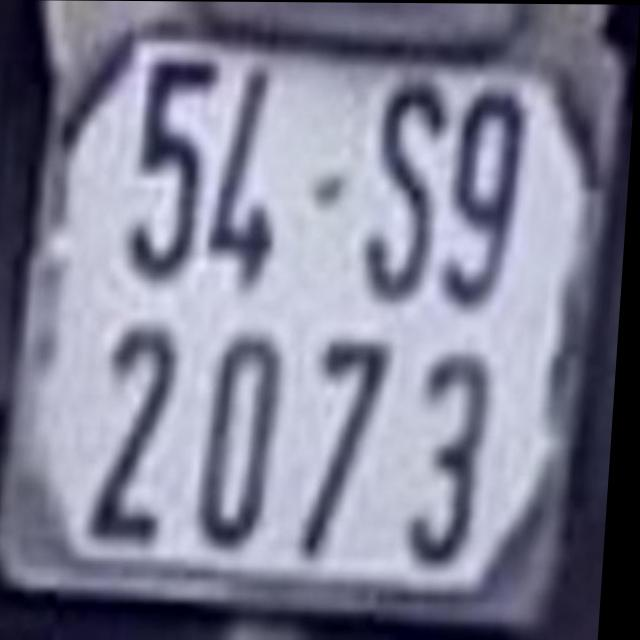0: (204, 323, 286, 546)
2: (89, 323, 190, 537)
3: (409, 348, 491, 563)
4: (214, 60, 292, 290)
5: (129, 54, 217, 275)
7: (303, 332, 399, 561)
9: (448, 79, 526, 312)
S: (355, 73, 445, 292)
